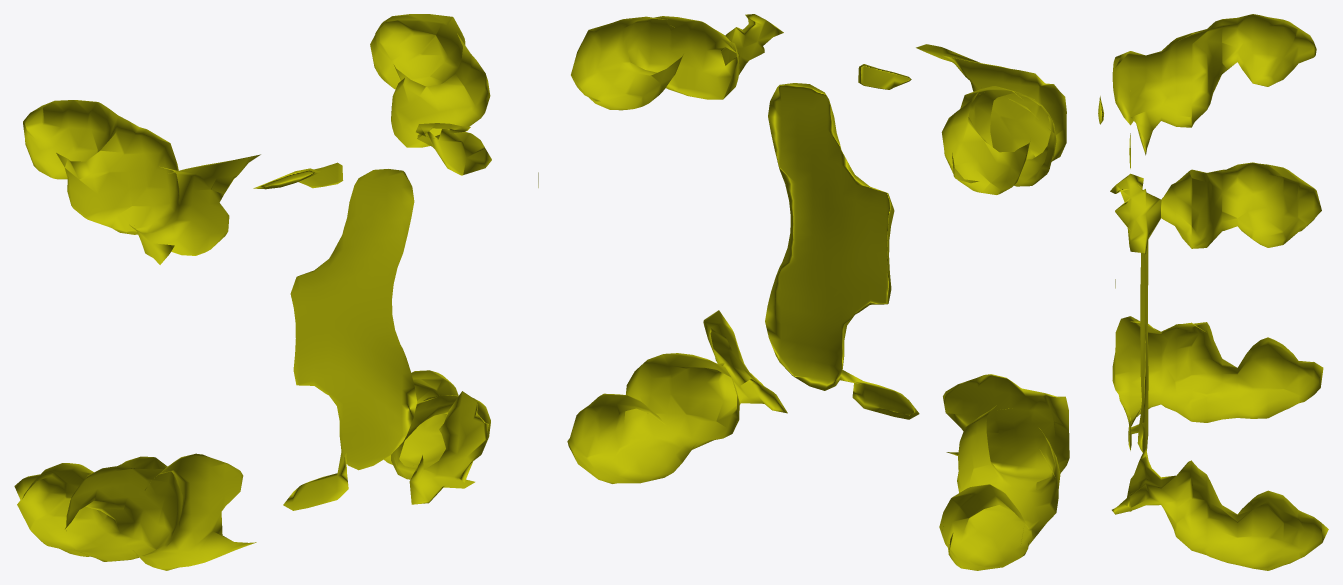
3 renders of one model, left to right at view 1: azimuth 30°, elevation 25°; view 2: azimuth 150°, elevation 25°; view 3: azimuth 270°, elevation 25°, orthographic. The views are drawn at different scales.
Visible parts, largest first — view 1: world; view 2: world; view 3: world.
Part boxes in pixels (box(x1,y1,x2,y2)): world: box(14, 14, 538, 570); world: box(567, 14, 1069, 570); world: box(1098, 14, 1328, 570).
Bounding box in the file's own units: 29.25 × 28.61 × 15.1.
